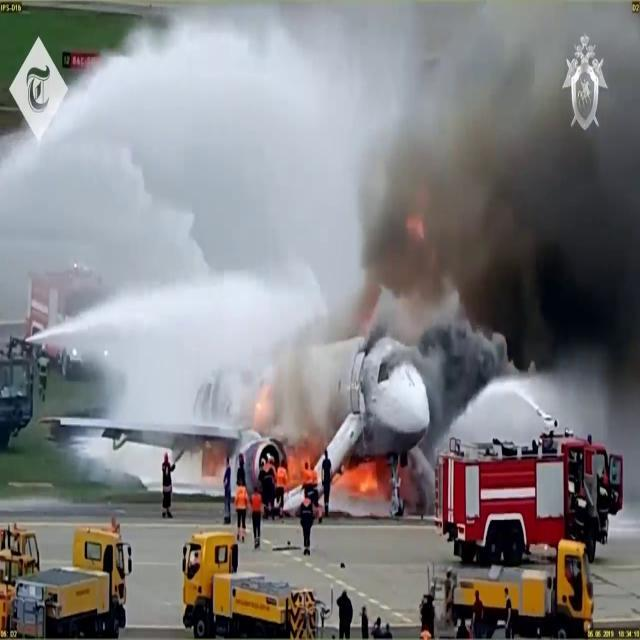Fire: (333, 454, 384, 494)
Smoke: (1, 0, 640, 422), (304, 1, 640, 399)
